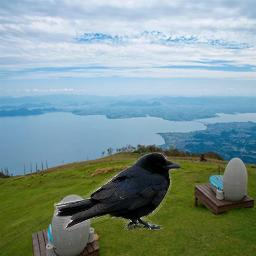Crow: (54, 152, 181, 230)
